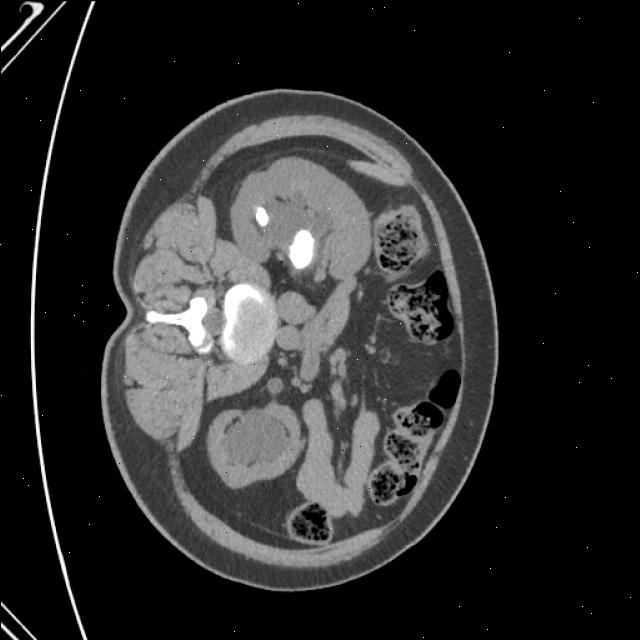kidneystone: (288, 230, 314, 269), (254, 206, 268, 226)
